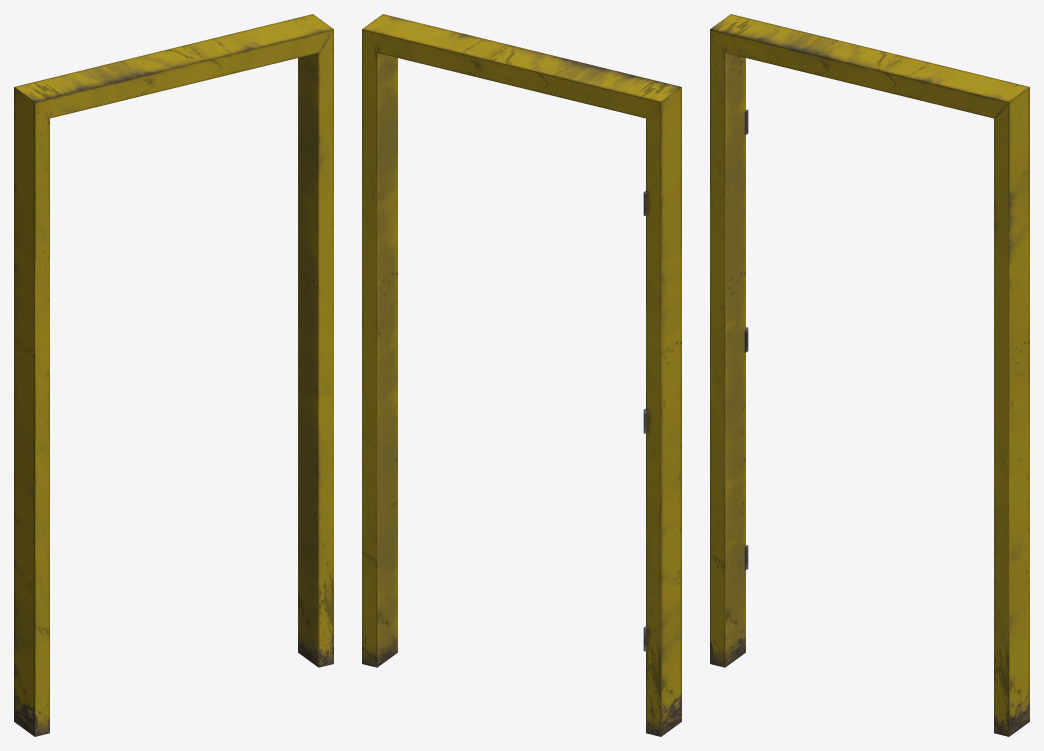
File: SM_Frame_Metal_AYellow.glb
3 renders of one model, left to right at view 1: azimuth 30°, elevation 25°; view 2: azimuth 150°, elevation 25°; view 3: azimuth 330°, elevation 25°, orthographic.
Visible parts, largest first — view 1: SM_Frame_Metal_ABlue; view 2: SM_Frame_Metal_ABlue; view 3: SM_Frame_Metal_ABlue.
Part boxes in pixels (x1,y1,x2,y2): SM_Frame_Metal_ABlue: [14, 14, 333, 736]; SM_Frame_Metal_ABlue: [362, 14, 681, 736]; SM_Frame_Metal_ABlue: [710, 14, 1029, 736].
Bounding box in the file's own units: 1.25 × 2.53 × 0.1616.
1 material, 1 textured.
